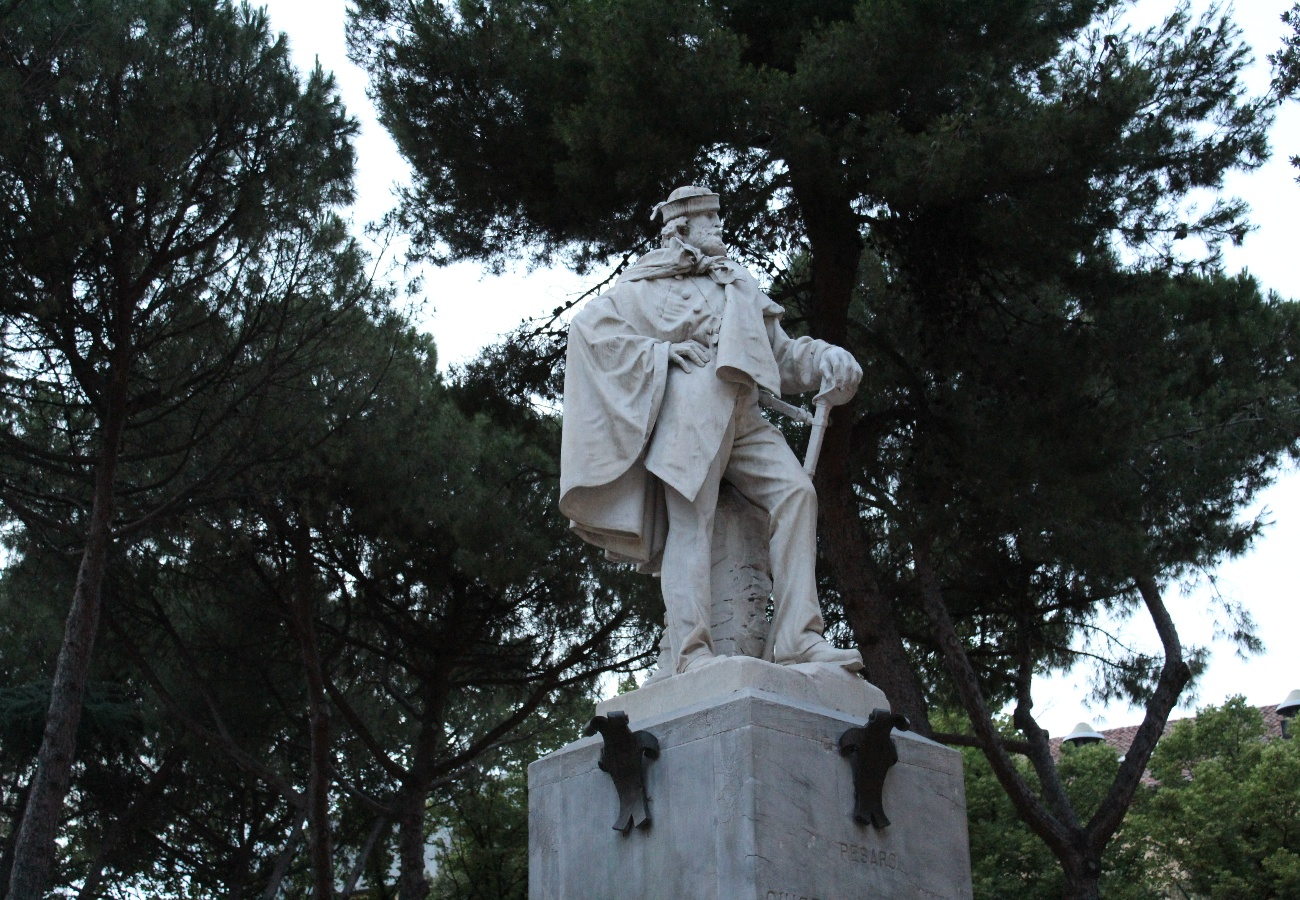Giuseppe Garibaldi: (556, 186, 865, 709)
